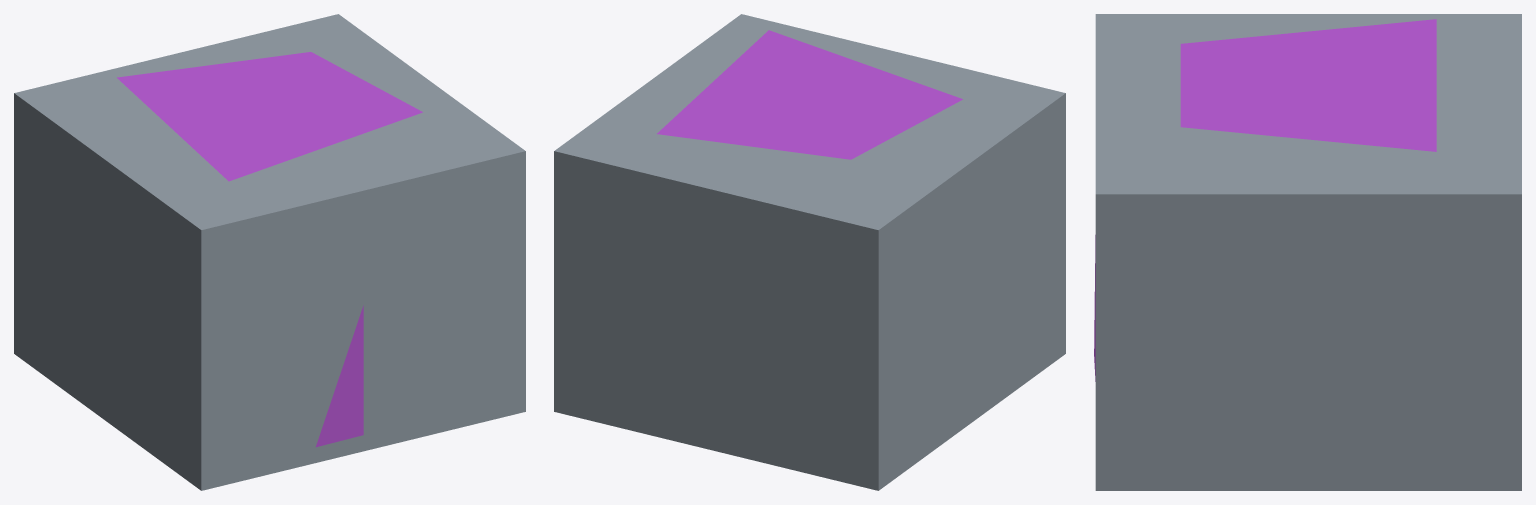
The model's file is CH_SuperweaponSingularity_LOD1.glb.
3 renders of one model, left to right at view 1: azimuth 30°, elevation 25°; view 2: azimuth 150°, elevation 25°; view 3: azimuth 270°, elevation 25°, orthographic. The views are drawn at different scales.
Parts seen in each view (by area): view 1: EntranceGate; view 2: EntranceGate; view 3: EntranceGate.
Boxes of the visible parts, x1,y1,x2,y2 form: EntranceGate: (14,14,525,490); EntranceGate: (554,14,1065,490); EntranceGate: (1094,14,1521,490).
Size of the model in its own units: 1000 by 848 by 1003.
